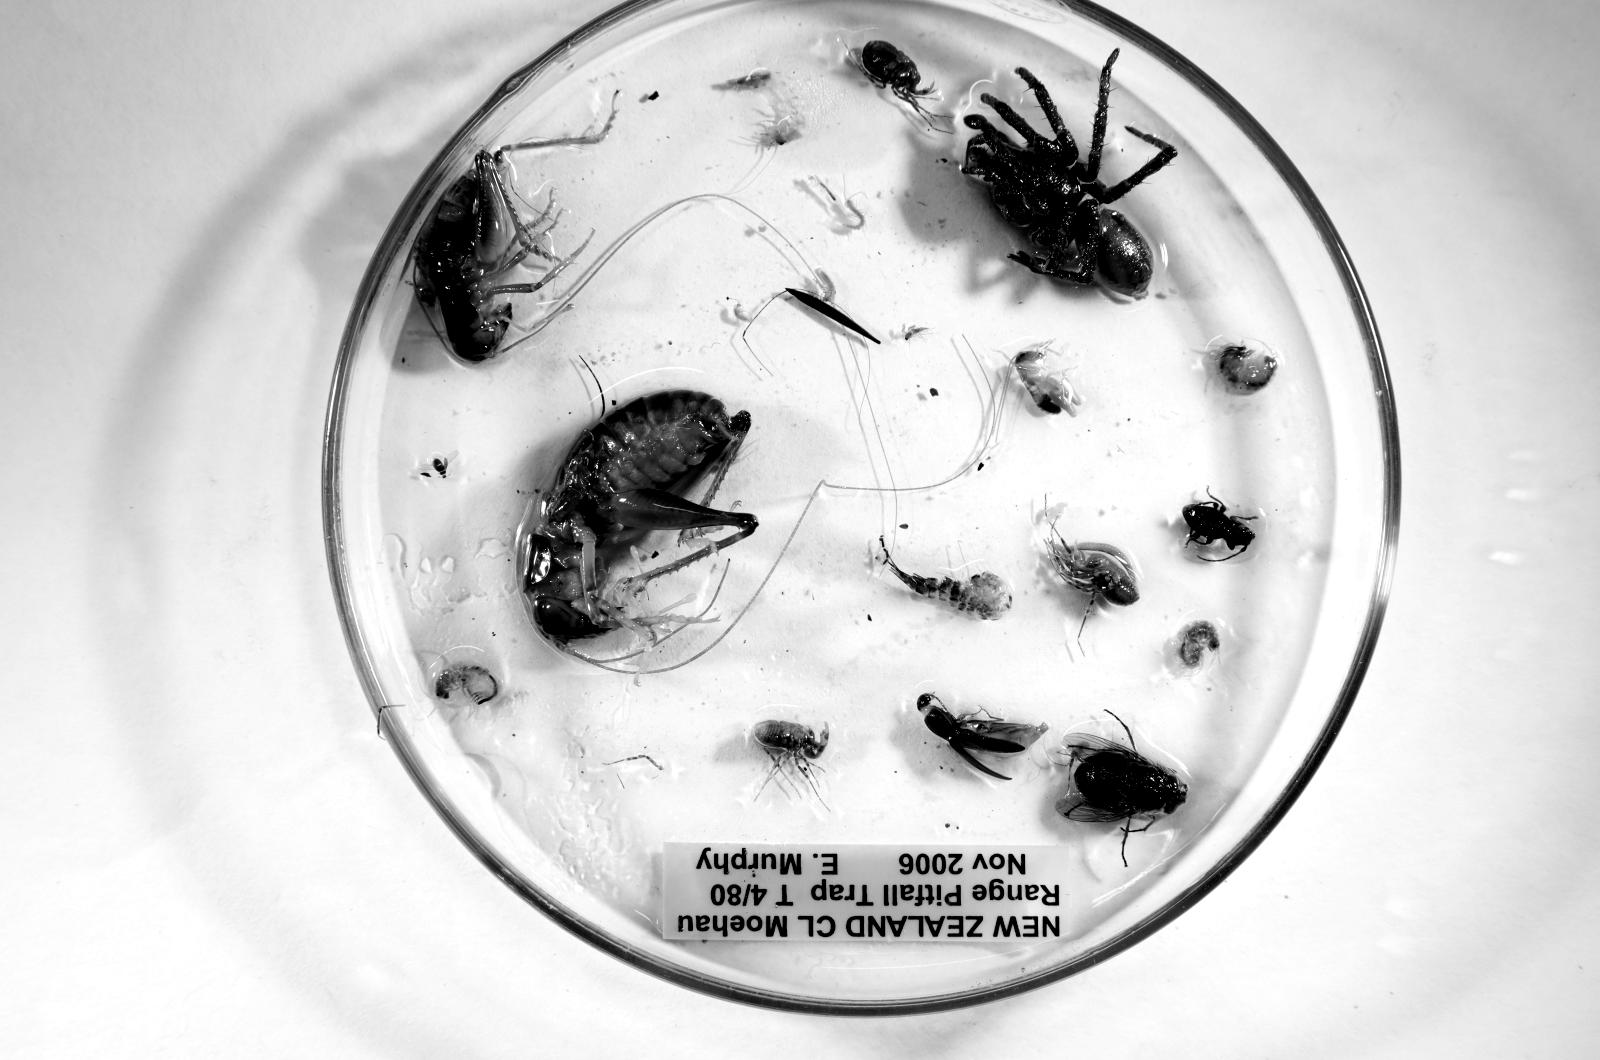amphipoda: (1213, 340, 1280, 394), (435, 661, 500, 706), (1172, 620, 1220, 673)
araneae: (963, 50, 1177, 295)
archaeognatha: (885, 560, 1012, 619)
chilopoda: (836, 192, 866, 230)
coleoptera: (916, 693, 1049, 781), (1183, 498, 1255, 561)
collembola: (812, 269, 836, 302), (733, 303, 756, 323)
diptera: (1057, 731, 1187, 822), (903, 327, 928, 342)
opiliones: (1047, 528, 1139, 607), (860, 40, 934, 108), (753, 719, 829, 764)
orthoptera: (522, 390, 759, 640), (413, 108, 616, 362), (1009, 341, 1082, 416)
